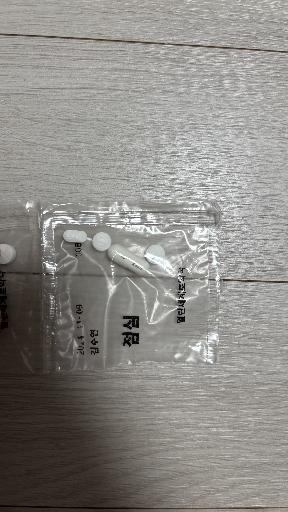Bacilliformis: (108, 244, 150, 276)
Lapabutine: (145, 245, 165, 264)
Tiparone: (92, 232, 112, 251)
gamod: (63, 229, 87, 243)
ticlo: (63, 229, 87, 243)
vinyl: (41, 198, 221, 372)
